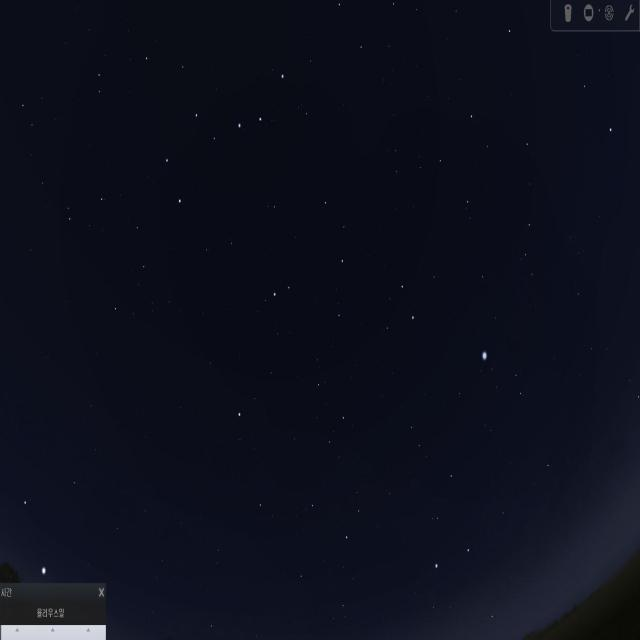cygnus: (428, 453, 557, 625)
lyra: (482, 331, 526, 409)
ursa_major: (159, 65, 295, 207)
